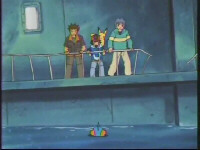mudkip: (88, 121, 111, 139)
